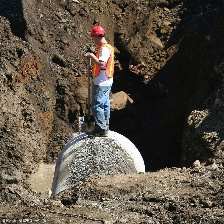helmet: (92, 25, 106, 37)
person: (87, 24, 119, 142)
